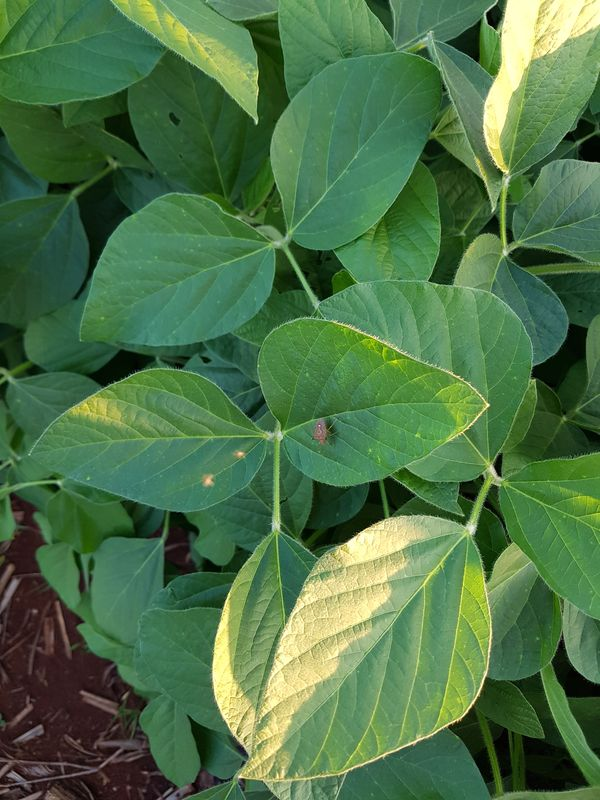Euschistus_heros_adulto: (305, 412, 342, 451)
